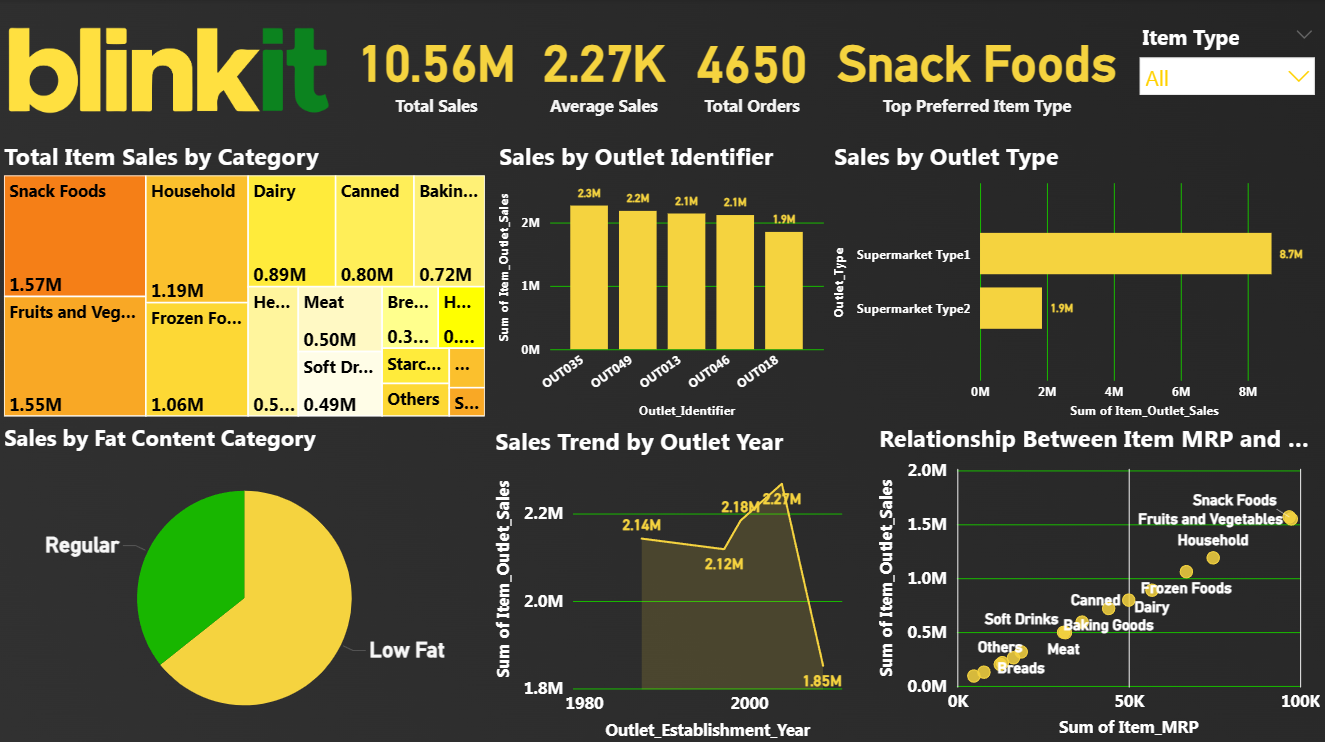

The dashboard page shown, as its layout file describes it:
{"tool":"powerbi","page":{"name":"Blinkit","canvas":[1280,720],"ordinal":2},"visuals":[{"type":"treemap","title":"Total Item Sales by Category","fields":{"Group":["Tableau BlinkIT Grocery Project.Item_Type"],"Values":["Sum(Tableau BlinkIT Grocery Project.Item_Outlet_Sales)"]},"box":[0,135.1,474.1,272.7],"z":0},{"type":"textbox","box":[0,0,544,90.4],"z":1000},{"type":"pieChart","title":"Sales by Fat Content Category","fields":{"Y":["Sum(Tableau BlinkIT Grocery Project.Item_Outlet_Sales)"],"Category":["Tableau BlinkIT Grocery Project.Item_Fat_Content"]},"box":[0,407.8,474.1,312.5],"z":2000},{"type":"columnChart","title":"Sales by Outlet Identifier","fields":{"Category":["Tableau BlinkIT Grocery Project.Outlet_Identifier"],"Y":["Sum(Tableau BlinkIT Grocery Project.Item_Outlet_Sales)"]},"box":[477.8,135.1,323.3,275.1],"z":3000},{"type":"barChart","title":"Sales by Outlet Type","fields":{"Y":["Sum(Tableau BlinkIT Grocery Project.Item_Outlet_Sales)"],"Category":["Tableau BlinkIT Grocery Project.Outlet_Type"]},"box":[801.1,135.1,479,275.1],"z":4000},{"type":"card","fields":{"Values":["Blinkit.Total Sales"]},"box":[314.9,0,214.7,135.1],"z":5000},{"type":"card","fields":{"Values":["Blinkit.Average Sales"]},"box":[466.9,0,234,135.1],"z":6000},{"type":"card","fields":{"Values":["Tableau BlinkIT Grocery Project.Top Preferred Item"]},"box":[797.5,0,293.2,135.1],"z":7000},{"type":"lineChart","title":"Sales Trend by Outlet Year","fields":{"Category":["Tableau BlinkIT Grocery Project.Outlet_Establishment_Year"],"Y":["Sum(Tableau BlinkIT Grocery Project.Item_Outlet_Sales)"]},"box":[474.1,410.2,353.5,310.1],"z":8000},{"type":"scatterChart","title":"Relationship Between Item MRP and Total Sales","fields":{"X":["Sum(Tableau BlinkIT Grocery Project.Item_MRP)"],"Y":["Sum(Tableau BlinkIT Grocery Project.Item_Outlet_Sales)"],"Category":["Tableau BlinkIT Grocery Project.Item_Type"]},"box":[844.5,407.8,435.5,310.1],"z":9000},{"type":"image","box":[0,0,326.9,135.1],"z":10000},{"type":"slicer","fields":{"Values":["Tableau BlinkIT Grocery Project.Item_Type"]},"box":[1090.6,18.1,189.4,117],"z":11000},{"type":"card","fields":{"Values":["Blinkit.Total Orders"]},"box":[580.3,14.5,293.2,107.4],"z":12000}]}

Visuals, with their boxes in screenshot pixels (x1, y1, x2, y2), scaled from the page's 1280x720 canvas onto the 1325x742 screenshot:
"Total Item Sales by Category" treemap: bbox(0, 139, 491, 420)
textbox: bbox(0, 0, 563, 93)
"Sales by Fat Content Category" pieChart: bbox(0, 420, 491, 741)
"Sales by Outlet Identifier" columnChart: bbox(495, 139, 829, 423)
"Sales by Outlet Type" barChart: bbox(829, 139, 1324, 423)
card - Blinkit.Total Sales: bbox(326, 0, 548, 139)
card - Blinkit.Average Sales: bbox(483, 0, 726, 139)
card - Tableau BlinkIT Grocery Project.Top Preferred Item: bbox(826, 0, 1129, 139)
"Sales Trend by Outlet Year" lineChart: bbox(491, 423, 857, 741)
"Relationship Between Item MRP and Total Sales" scatterChart: bbox(874, 420, 1324, 740)
image: bbox(0, 0, 338, 139)
slicer - Tableau BlinkIT Grocery Project.Item_Type: bbox(1129, 19, 1324, 139)
card - Blinkit.Total Orders: bbox(601, 15, 904, 126)
